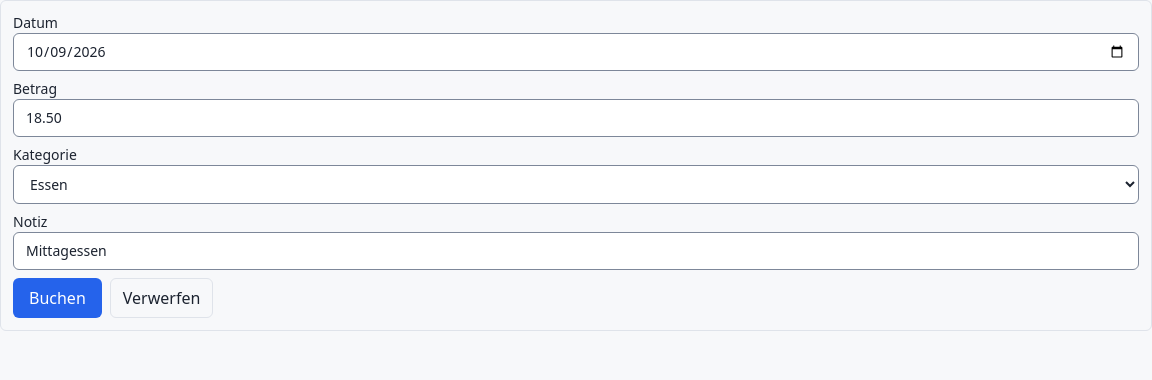
Test case: ProposalList › AK-3: ungültige Änderung wird nicht gebucht
The width and height of the screenshot is (1152, 380).
Clear the field labelled "Betrag" at point(576, 118), box [13,99,1139,137]
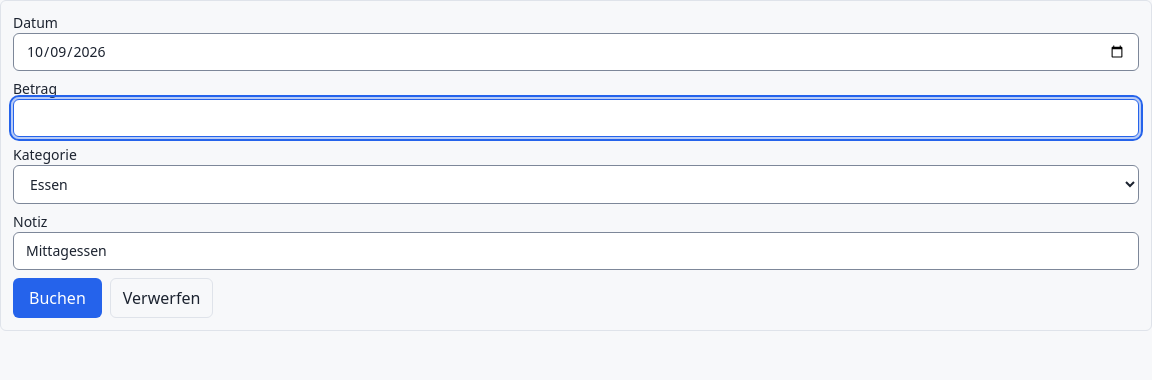
Click the button "Buchen".
click(57, 298)  # box [13,278,102,318]
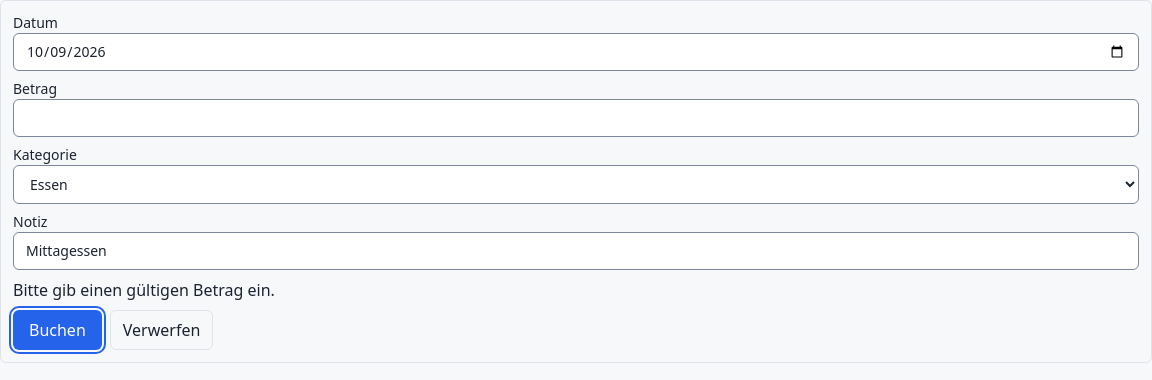
Expected: the message reads "Bitte gib einen gültigen Betrag ein.", [13,279,275,301]
